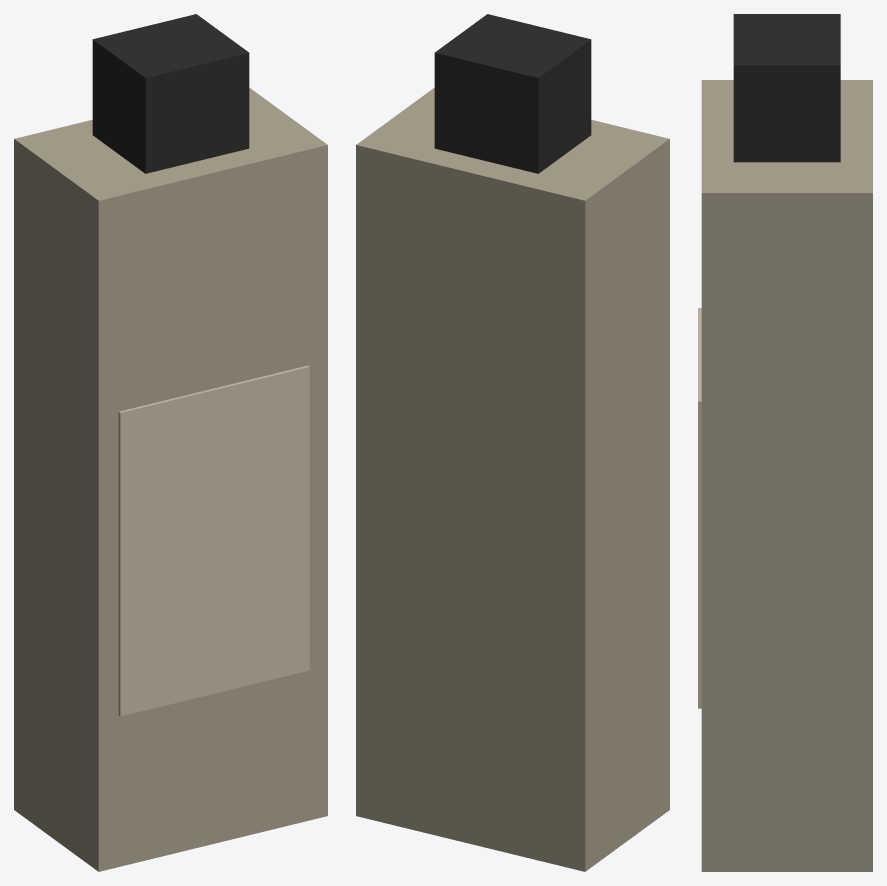
Rendered from shampoo-bottle.glb.
3 views of the same model, side by side, from view 1: azimuth 30°, elevation 25°; view 2: azimuth 150°, elevation 25°; view 3: azimuth 270°, elevation 25° (orthographic).
Parts seen in each view (by area): view 1: plastic-light, paper, plastic-dark; view 2: plastic-light, plastic-dark; view 3: plastic-light, plastic-dark, paper.
Boxes of the visible parts, left/top/right/bottom form: plastic-light: left=14, top=88, right=327, bottom=871; paper: left=118, top=365, right=309, bottom=716; plastic-dark: left=92, top=14, right=249, bottom=173; plastic-light: left=356, top=88, right=669, bottom=871; plastic-dark: left=434, top=14, right=591, bottom=173; plastic-light: left=701, top=80, right=872, bottom=871; plastic-dark: left=733, top=14, right=840, bottom=162; paper: left=698, top=308, right=701, bottom=708.
Size of the model in its own units: 0.075 by 0.24 by 0.049.
